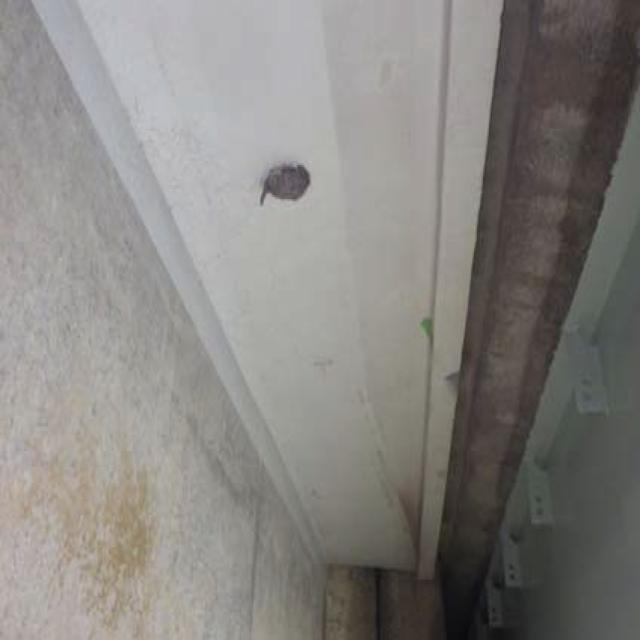corrosion: (239, 127, 324, 236)
